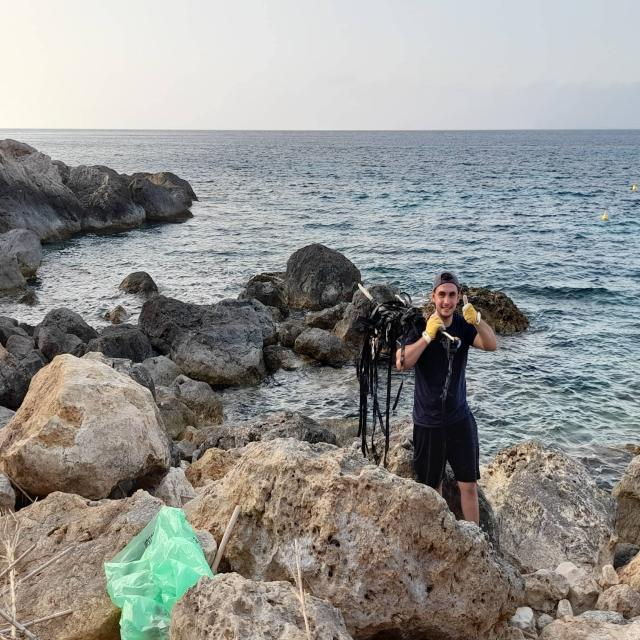Other plastic: (353, 296, 425, 470)
Plastic bag - wrapper: (106, 499, 220, 640)
